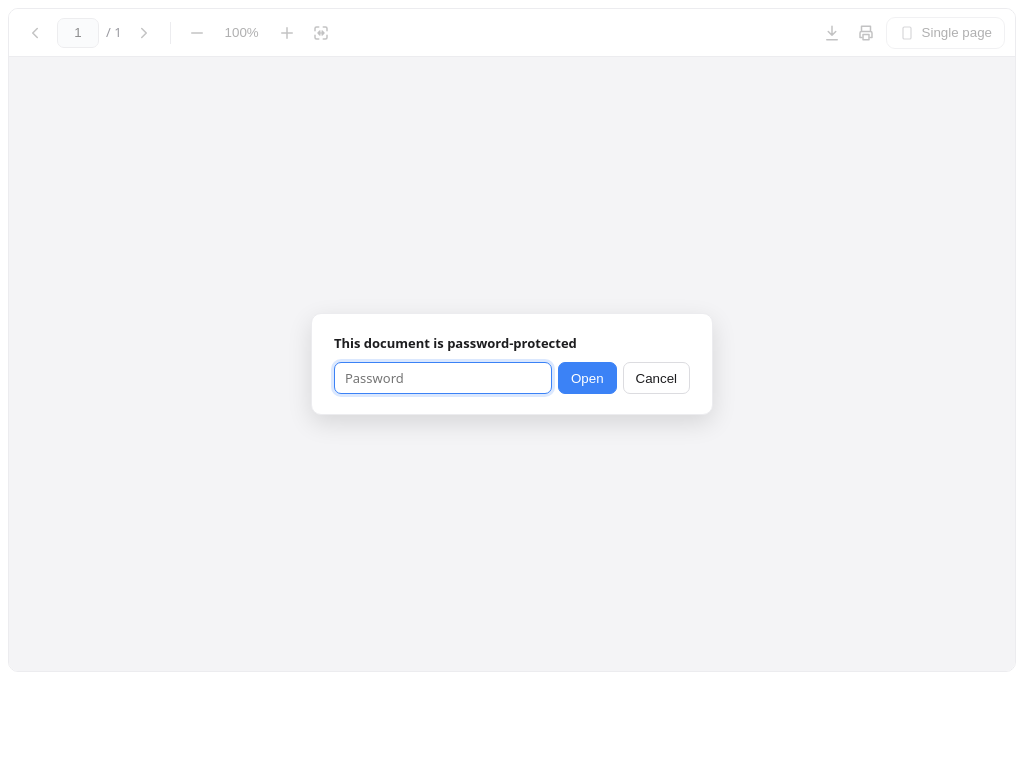
<DocViewer> password prompt › asks the user for the password, reports a wrong attempt, and renders after the right one
The image size is (1024, 768).
Type "wrong" into the password field labelled "Password" at (443, 378), box [334, 362, 552, 394]
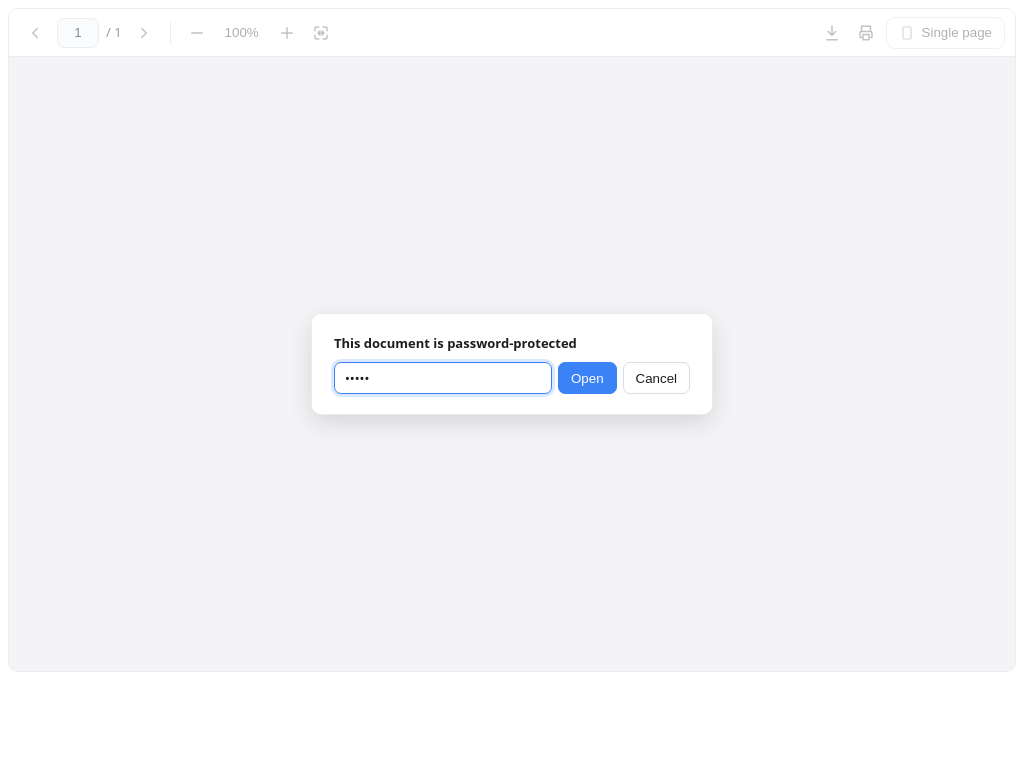
Submit the form labelled "password", box [311, 313, 713, 415]
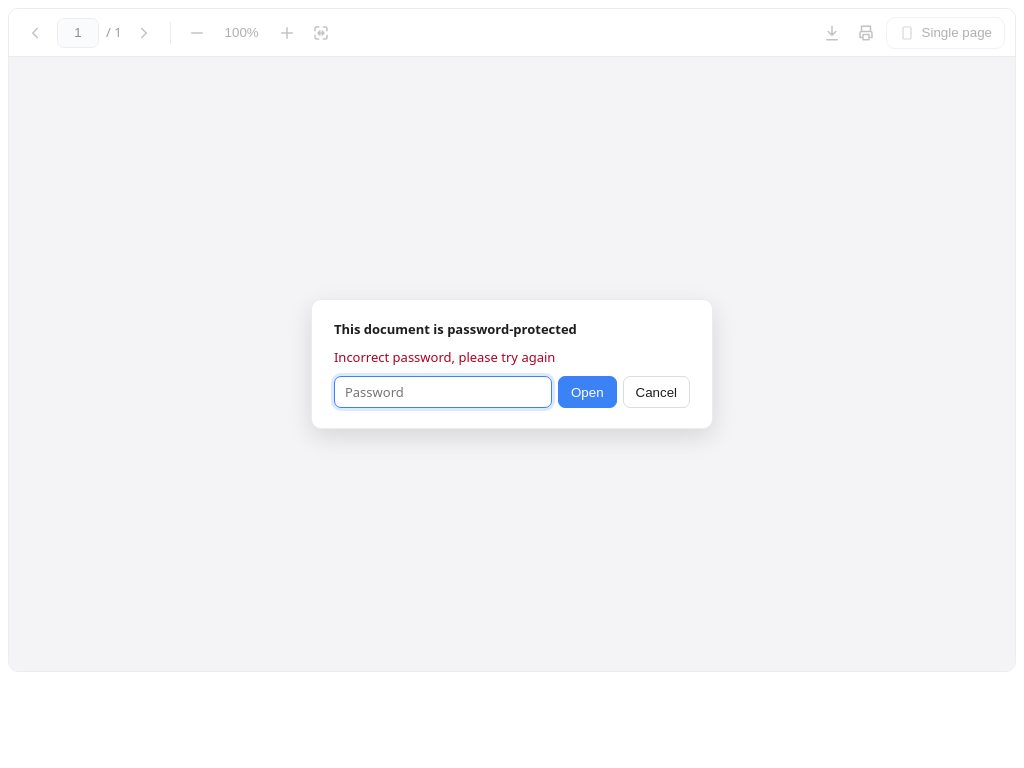
Expected: the text "Incorrect password, please try again" is shown, [334, 348, 555, 366]
Type "secret" into the password field labelled "Password" at (443, 392), box [334, 376, 552, 408]
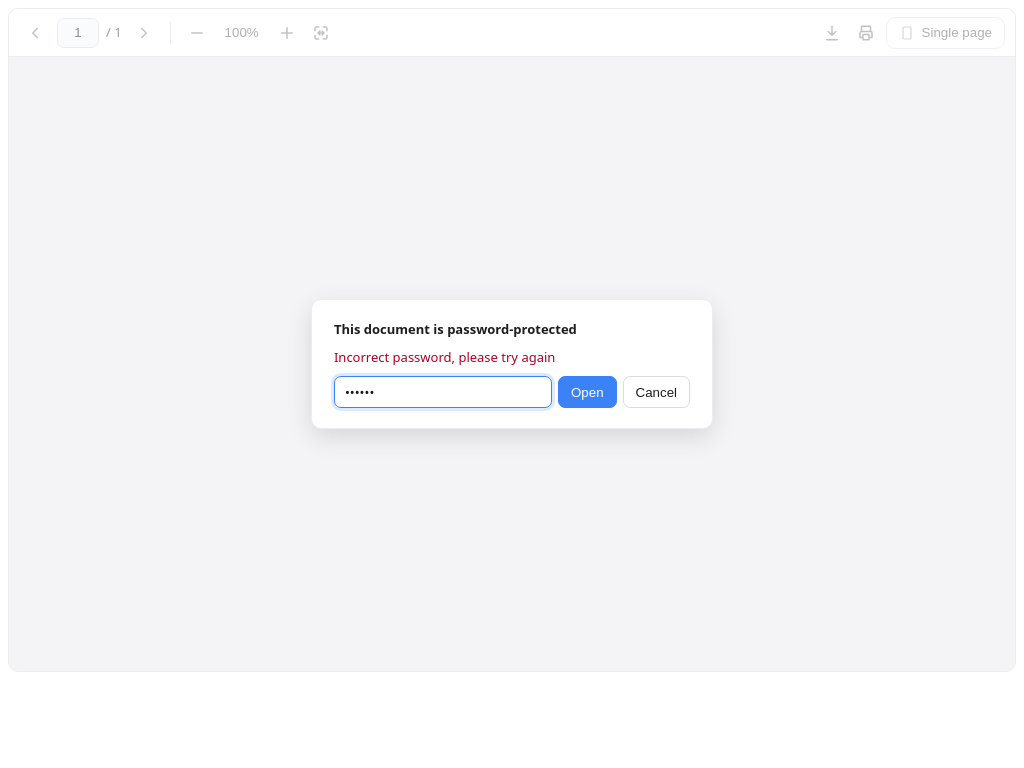
Submit the form labelled "password", box [311, 299, 713, 429]
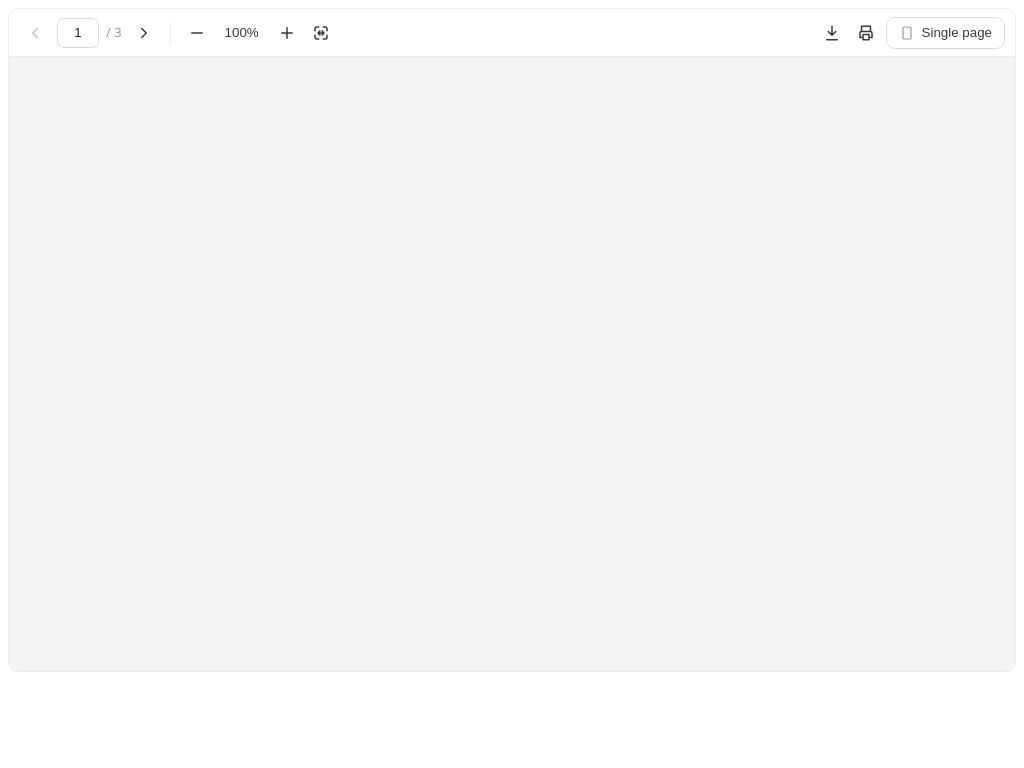
Expected: the button named "Next page" is enabled, [128, 16, 160, 48]
Expected: the text labelled "password" is gone
